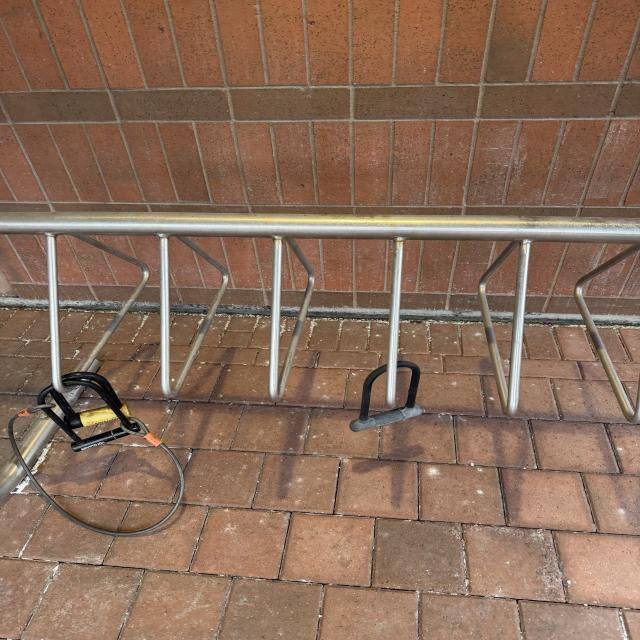Bicycle Rack: (0, 214, 640, 433)
